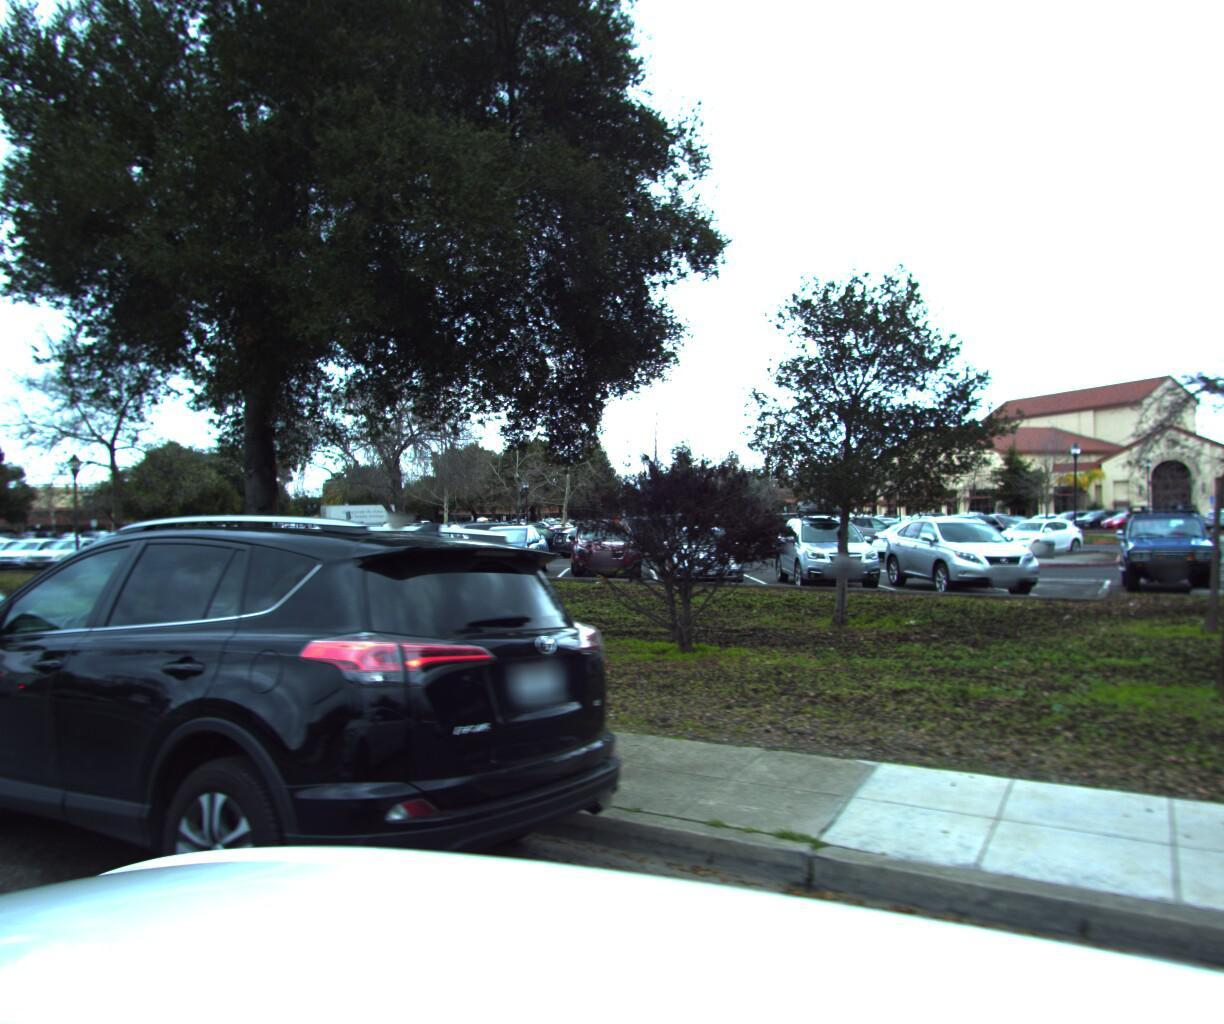car: (0, 488, 668, 1024), (0, 542, 93, 816)
